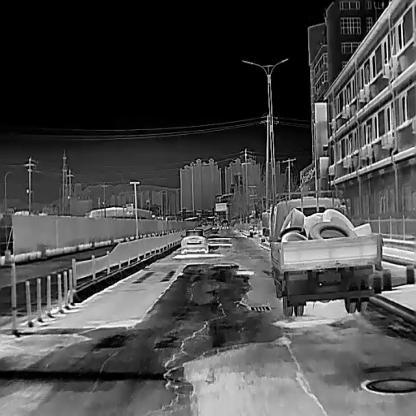car: (270, 189, 382, 316), (181, 228, 208, 254)
